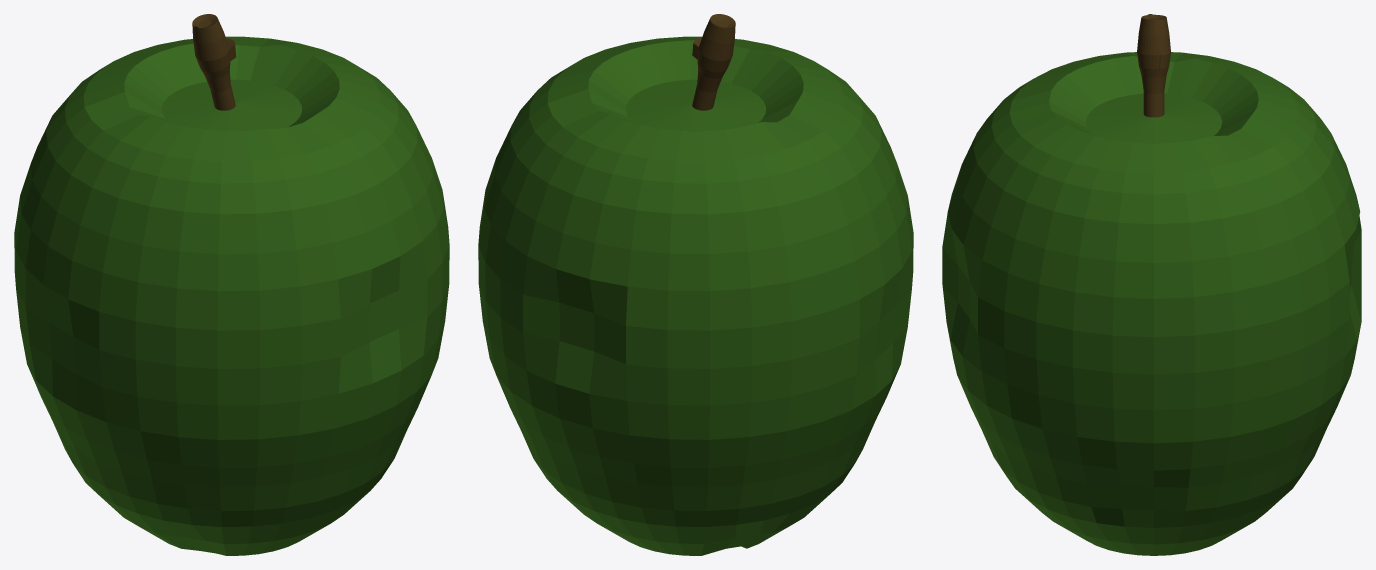
The model's file is lwbaa_greenapple.gltf.
3 views of the same model, side by side, from view 1: azimuth 30°, elevation 25°; view 2: azimuth 150°, elevation 25°; view 3: azimuth 270°, elevation 25° (orthographic). The views are drawn at different scales.
Visible parts, largest first — view 1: Apple; view 2: Apple; view 3: Apple.
Boxes of the visible parts, x1,y1,x2,y2 form: Apple: [14, 14, 449, 555]; Apple: [478, 14, 913, 555]; Apple: [942, 14, 1361, 555].
Size of the model in its own units: 0.3003 by 0.3922 by 0.2974.
